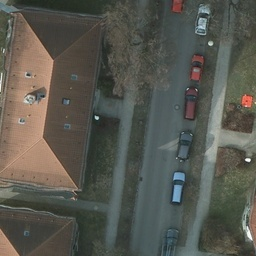car: (196, 3, 212, 37), (182, 86, 198, 120), (175, 129, 192, 161), (171, 172, 184, 203), (165, 224, 178, 255), (189, 50, 201, 83), (169, 1, 182, 15)
